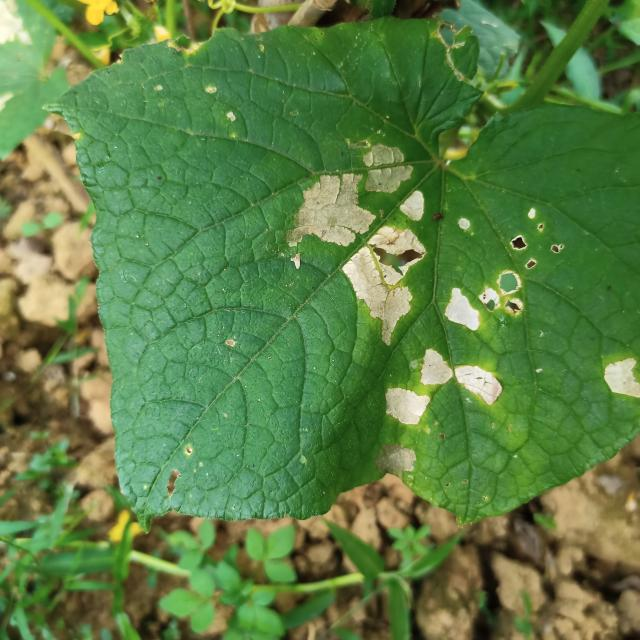disease_cucumber: (287, 131, 430, 363), (444, 206, 562, 334), (370, 345, 515, 438), (597, 350, 640, 405)
